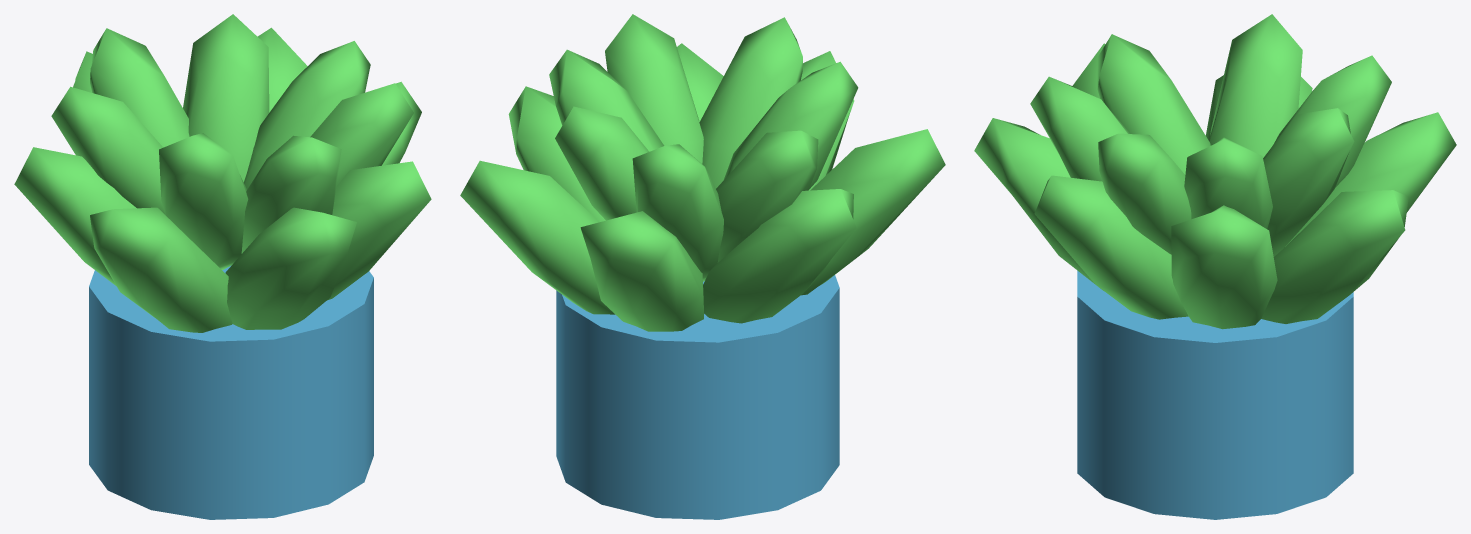
The model's file is tree.fbx.
The picture shows the model from 3 angles, left to right: view 1: azimuth 30°, elevation 25°; view 2: azimuth 150°, elevation 25°; view 3: azimuth 270°, elevation 25°; orthographic projection.
Parts seen in each view (by area): view 1: tree; view 2: tree; view 3: tree.
Part boxes in pixels (x1,y1,x2,y2): tree: [14, 14, 431, 519]; tree: [460, 14, 945, 519]; tree: [974, 14, 1456, 519].
Size of the model in its own units: 10.11 by 9.78 by 11.18.
1 material, 1 textured.
